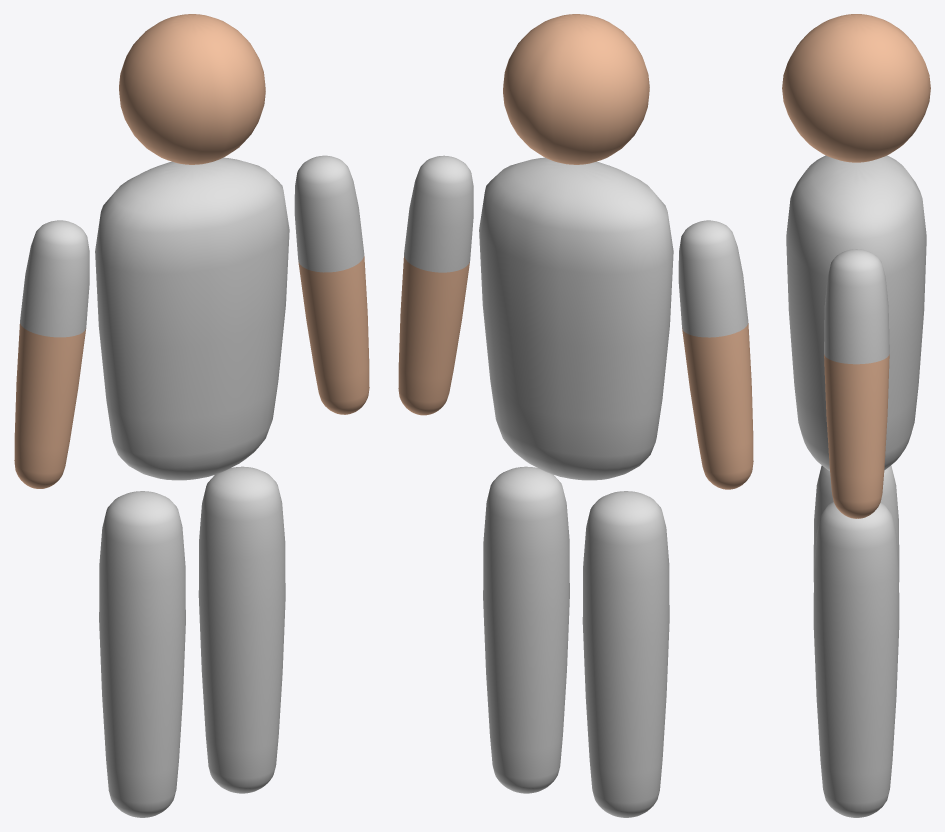
Rendered from Hooman.fbx.
3 renders of one model, left to right at view 1: azimuth 30°, elevation 25°; view 2: azimuth 150°, elevation 25°; view 3: azimuth 270°, elevation 25°, orthographic.
Parts seen in each view (by area): view 1: Cube; view 2: Cube; view 3: Cube.
Part boxes in pixels (bbox=[...]): Cube: bbox=[14, 14, 369, 817]; Cube: bbox=[398, 14, 753, 817]; Cube: bbox=[782, 14, 930, 817].
Size of the model in its own units: 84.7 by 182 by 31.84.
